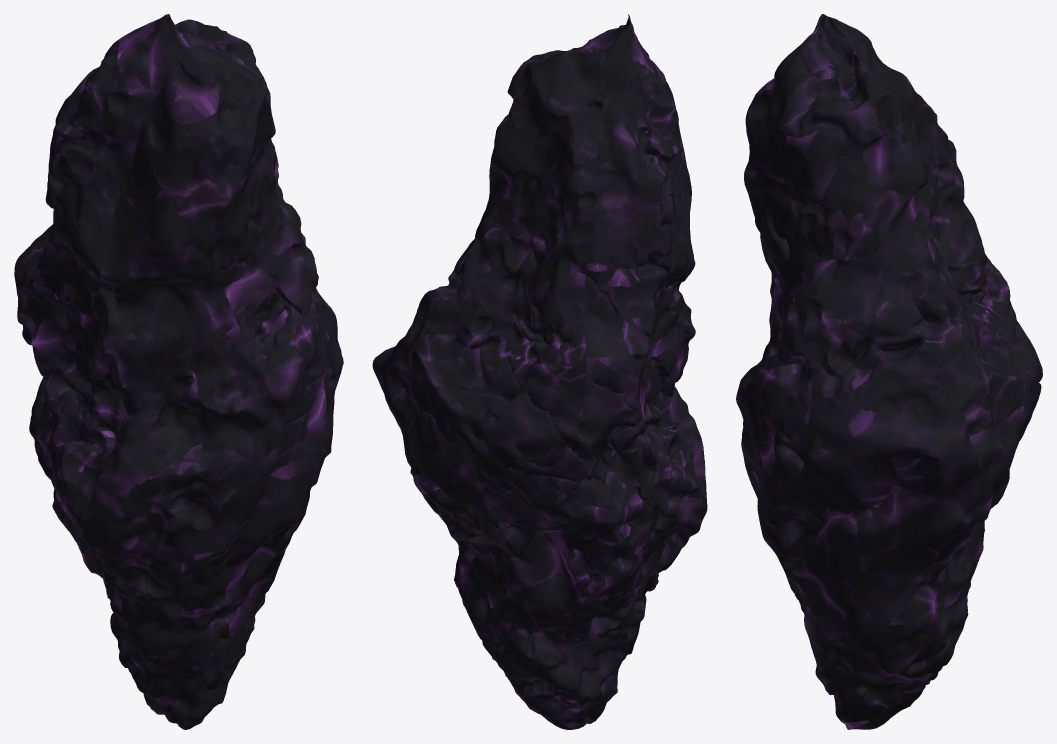
The model's file is shard-02-low.glb.
The picture shows the model from 3 angles, left to right: view 1: azimuth 30°, elevation 25°; view 2: azimuth 150°, elevation 25°; view 3: azimuth 270°, elevation 25°; orthographic projection. The views are drawn at different scales.
Parts seen in each view (by area): view 1: Onyx_Shard_Web.001; view 2: Onyx_Shard_Web.001; view 3: Onyx_Shard_Web.001.
Boxes of the visible parts, box(x1,y1,x2,y2) form: Onyx_Shard_Web.001: box(14, 14, 343, 729); Onyx_Shard_Web.001: box(372, 14, 707, 729); Onyx_Shard_Web.001: box(736, 14, 1042, 729).
Bounding box in the file's own units: 0.8135 × 1.95 × 0.775.
Materials: 1 (1 with a texture image).
